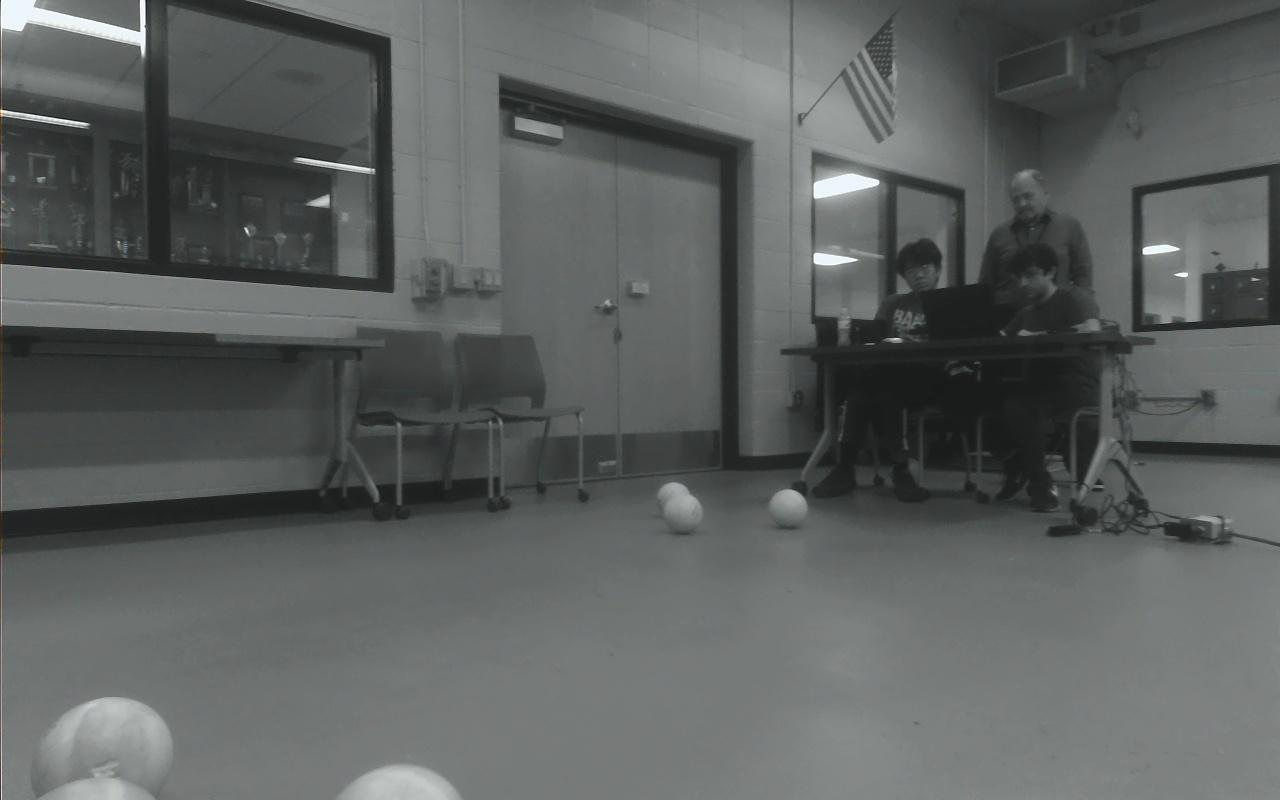Fuel: (32, 695, 174, 799), (335, 762, 461, 800), (36, 775, 159, 800), (768, 488, 809, 530), (662, 494, 703, 534), (657, 482, 691, 517)
